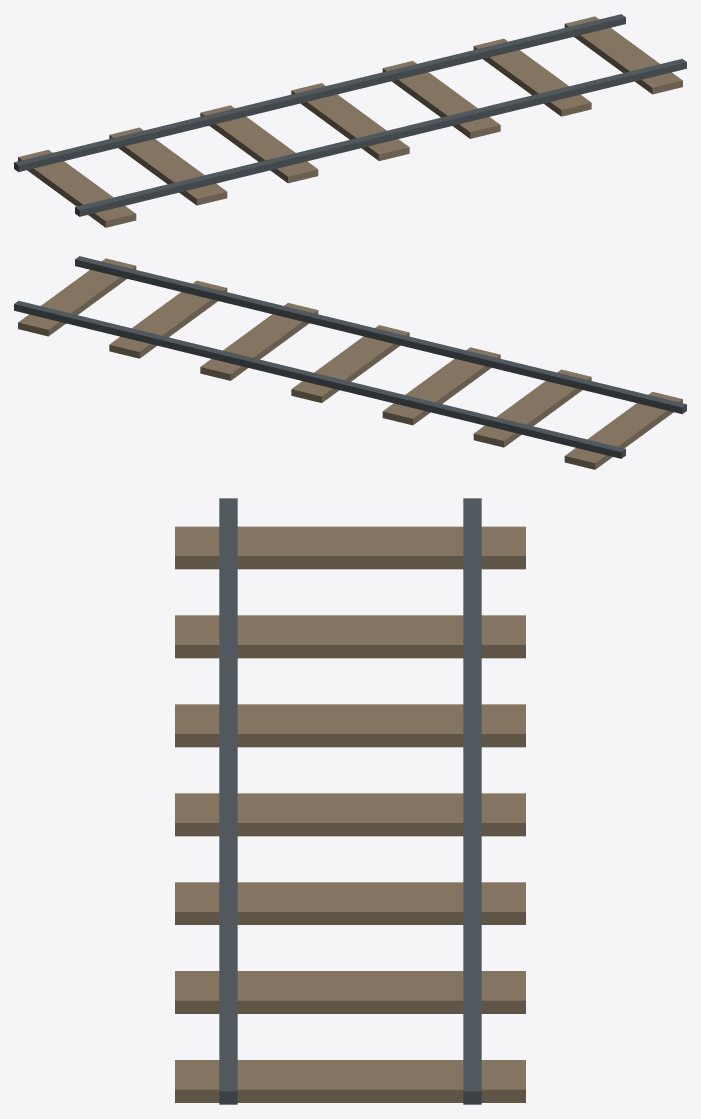
File: pit_rail_pair.glb
The picture shows the model from 3 angles, top to bottom: view 1: azimuth 30°, elevation 25°; view 2: azimuth 150°, elevation 25°; view 3: azimuth 270°, elevation 25°; orthographic projection. The views are drawn at different scales.
Parts seen in each view (by area): view 1: pit_rail_pair; view 2: pit_rail_pair; view 3: pit_rail_pair.
Boxes of the visible parts, bbox=[...] form: pit_rail_pair: bbox=[14, 14, 686, 227]; pit_rail_pair: bbox=[14, 256, 686, 469]; pit_rail_pair: bbox=[175, 498, 525, 1104].
Size of the model in its own units: 7.68 by 0.16 by 1.92.
